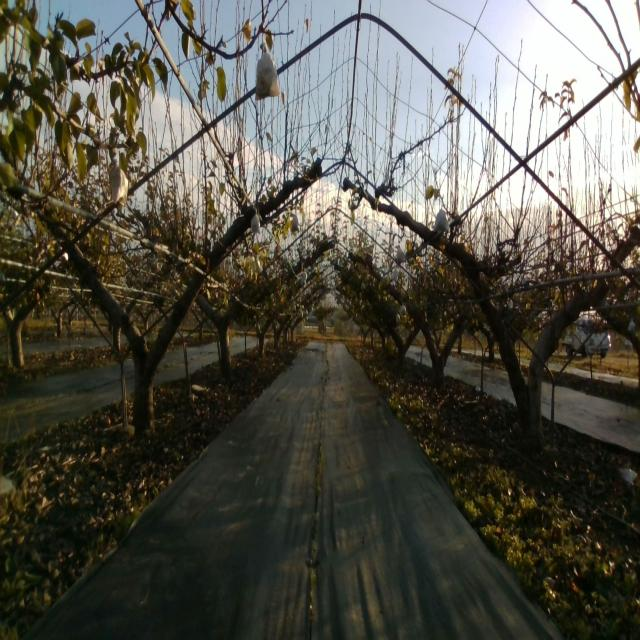pearbags: (255, 42, 281, 100), (108, 166, 129, 209), (433, 209, 451, 233), (249, 208, 260, 234)
